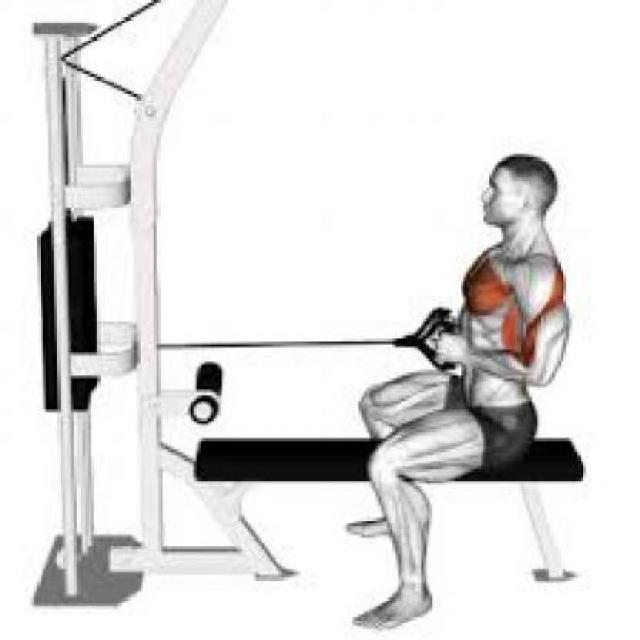Seated Cable Rows: (20, 3, 600, 634)
